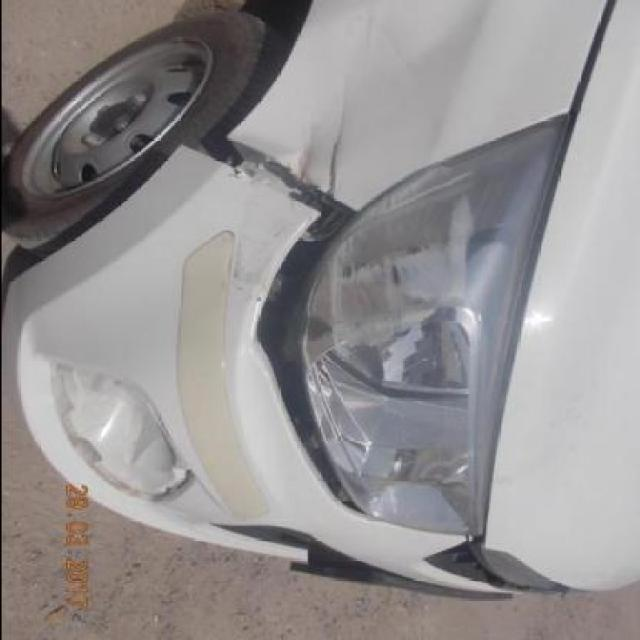damage: (177, 66, 373, 521)
